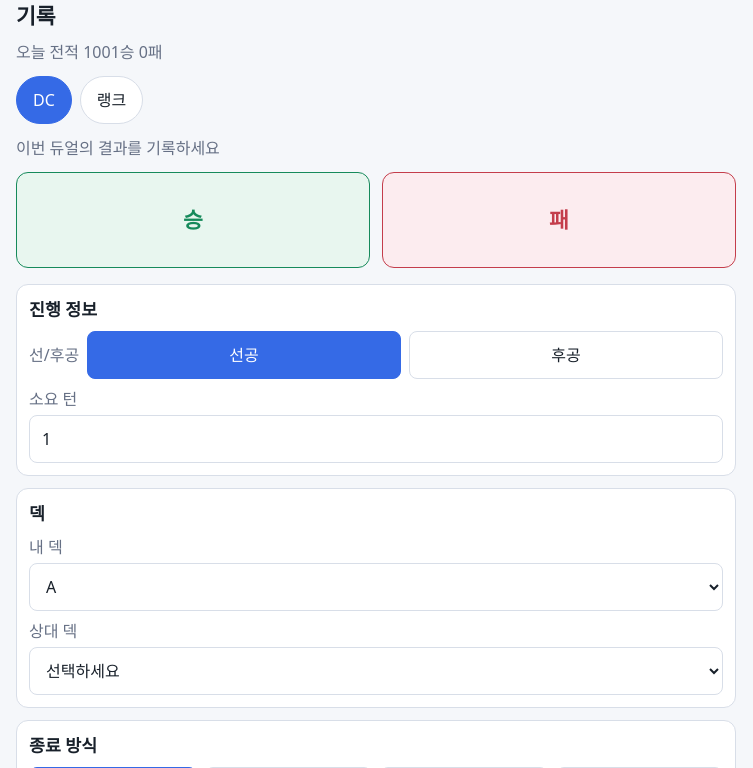
Scenario: 저장 영수증과 재시도 › 최신 1000건 밖의 모드 기준과 전체 오늘 전적을 사용한다
Expected: the button "DC" is shown, [16,76,72,124]
Step 1. Click the button "승" → click(193, 220), box [16,172,370,268]
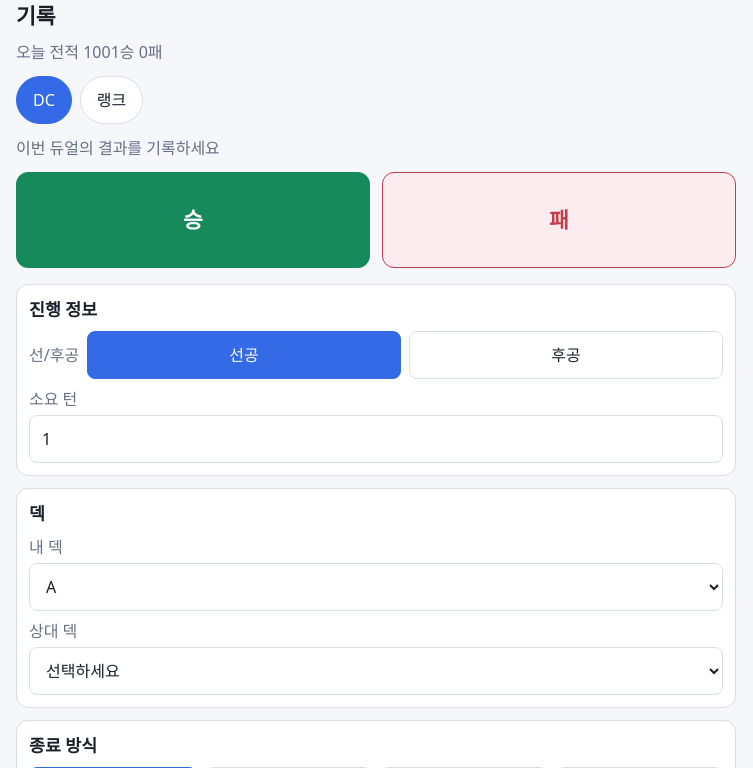
Step 2. Select "B" in the dropdown labelled "상대 덱" → (376, 671), box [29,647,723,695]
(page scrolled)
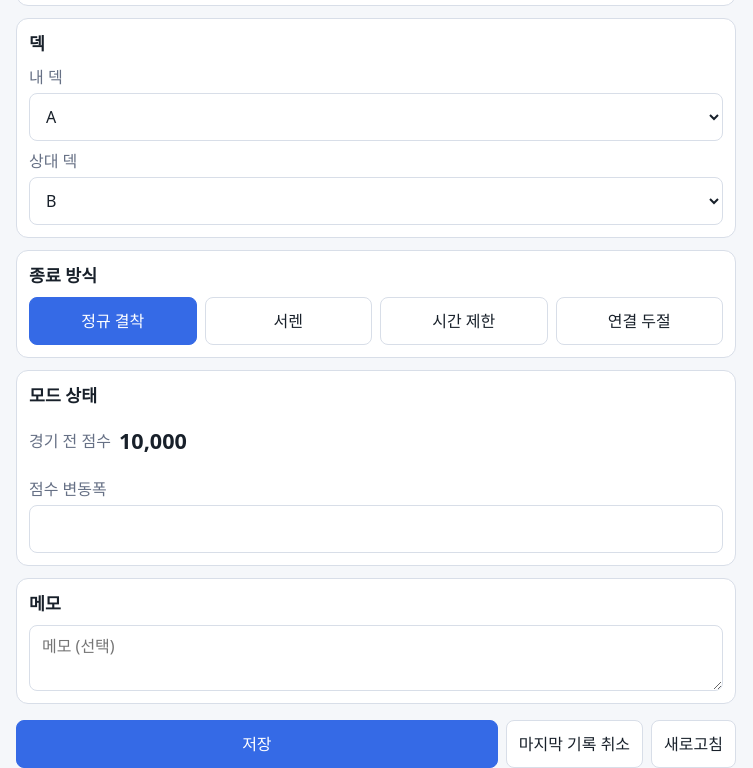
Step 3. Type "100" into the number field labelled "점수 변동폭" → (376, 529), box [29,505,723,553]
(page scrolled)
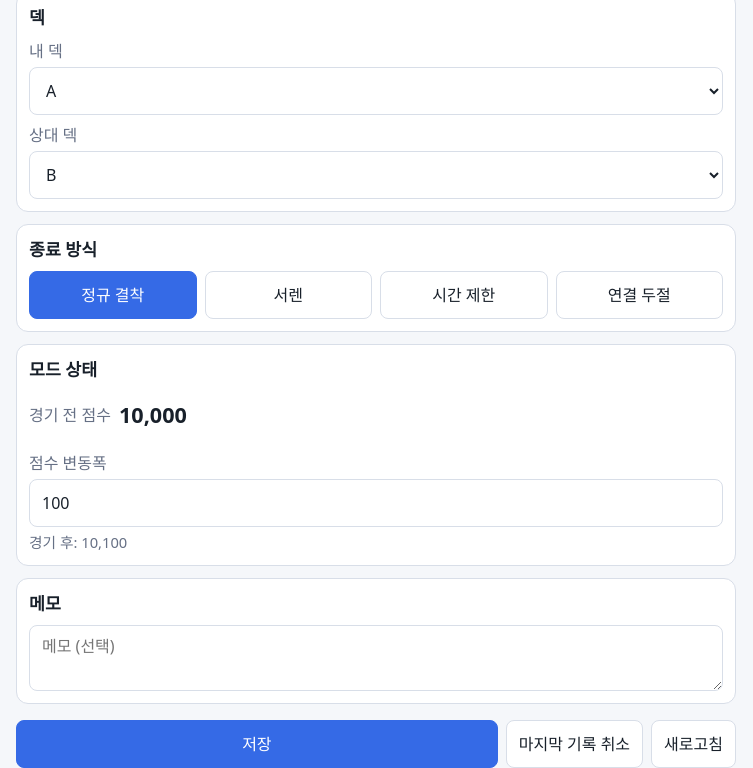
Step 4. Click the button "저장" → click(257, 744), box [16,720,498,767]
(page scrolled)
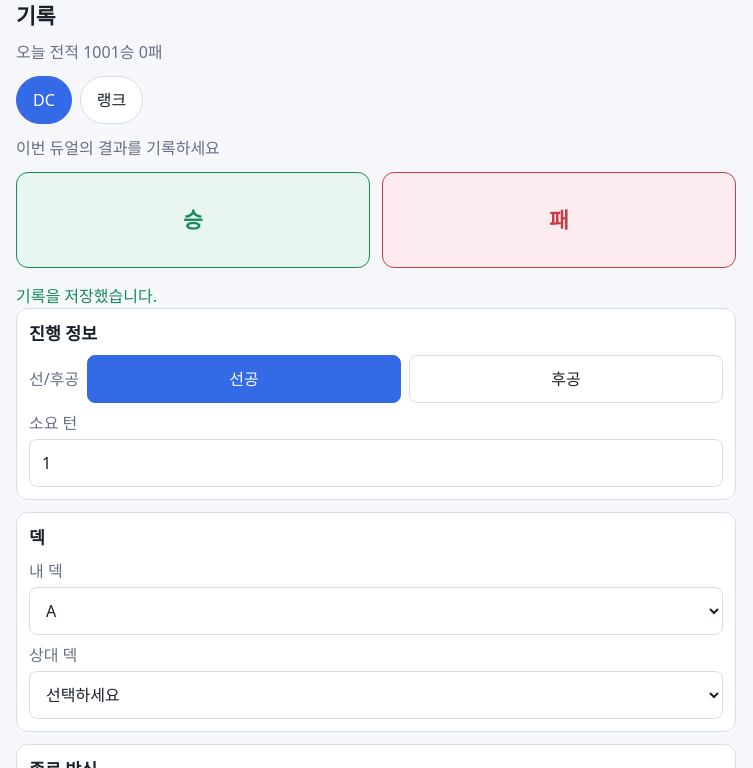
Expected: the text "기록을 저장했습니다." is shown, [16,285,157,307]
